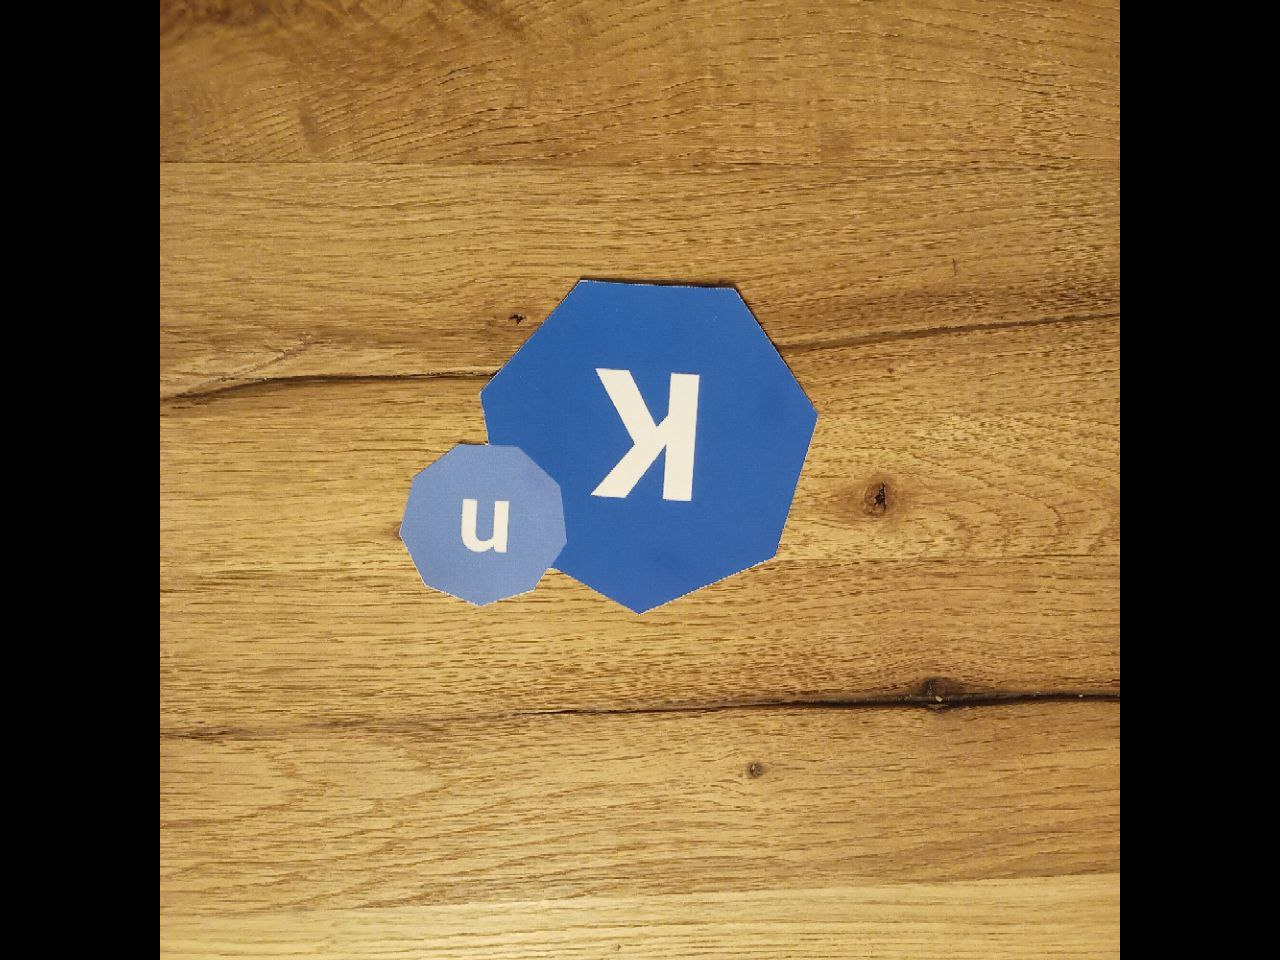knative: (398, 277, 821, 613)
